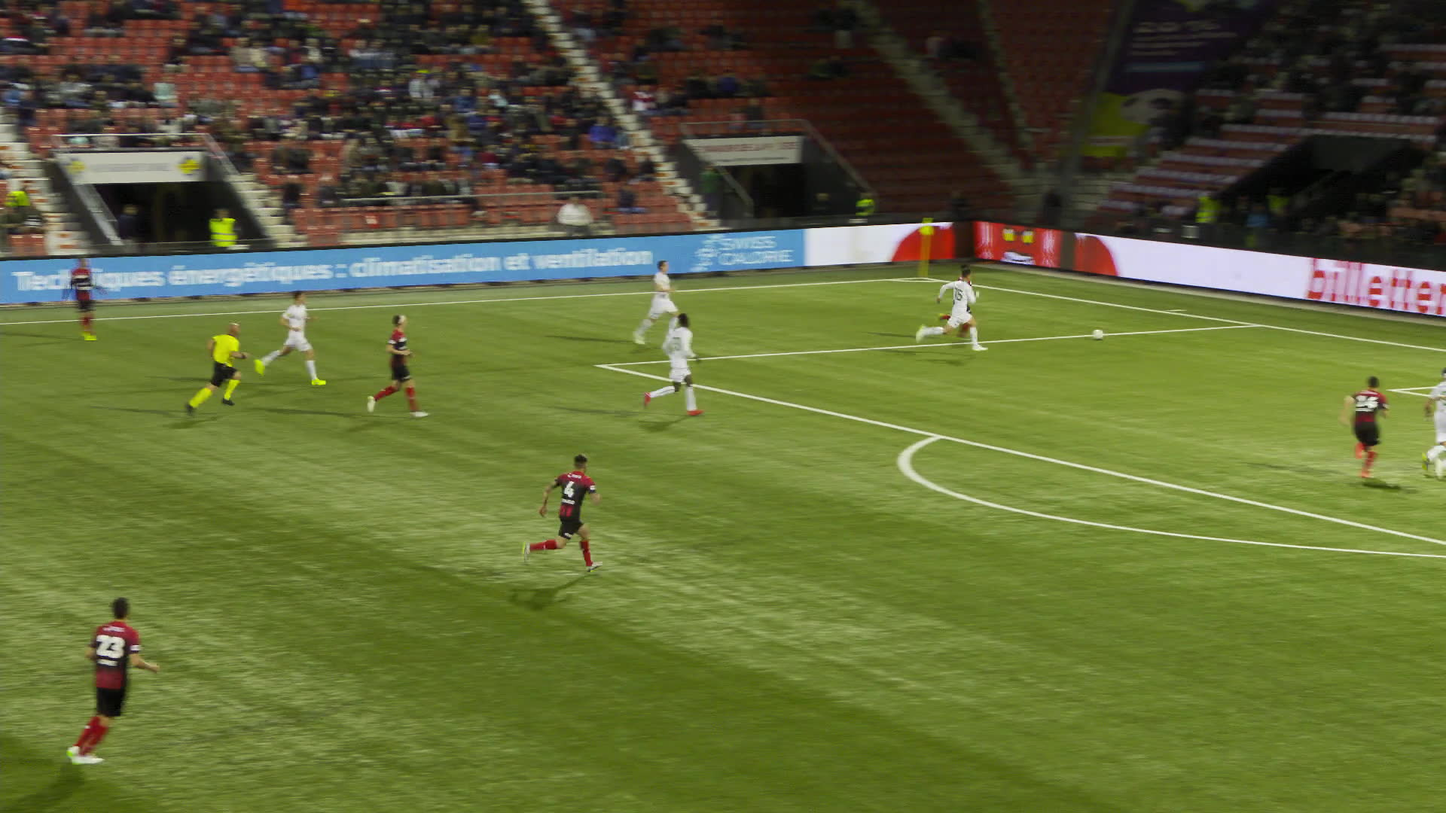ball: (1091, 327, 1105, 339)
player: (64, 591, 160, 770), (520, 451, 604, 577), (253, 288, 326, 386), (640, 311, 706, 416), (365, 312, 429, 418), (914, 266, 988, 352), (1339, 374, 1390, 475), (631, 259, 680, 345), (61, 255, 109, 340), (935, 262, 973, 340), (1421, 368, 1445, 482)
referee: (185, 323, 251, 419)
